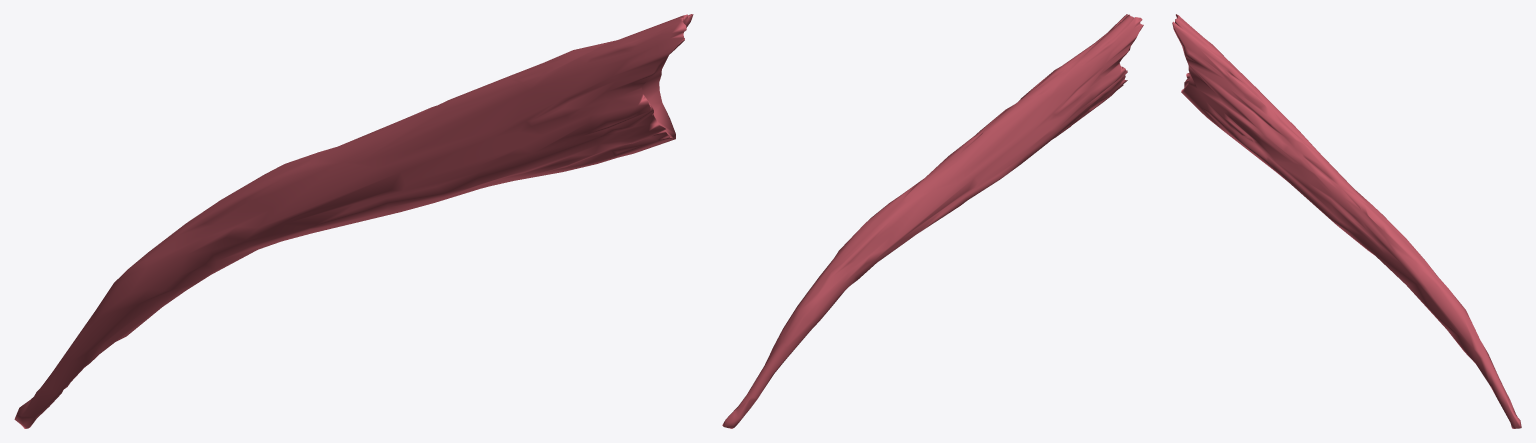
The picture shows the model from 3 angles, left to right: view 1: azimuth 90°, elevation 25°; view 2: azimuth 150°, elevation 25°; view 3: azimuth 270°, elevation 25°; orthographic projection. The views are drawn at different scales.
Visible parts, largest first — view 1: 右侧二腹肌后腹; view 2: 右侧二腹肌后腹; view 3: 右侧二腹肌后腹.
Boxes of the visible parts, <box> form: 右侧二腹肌后腹: <box>14,14,693,428</box>; 右侧二腹肌后腹: <box>722,14,1143,428</box>; 右侧二腹肌后腹: <box>1172,14,1521,428</box>.
Bounding box in the file's own units: 0.0692 × 0.093 × 0.0945.
